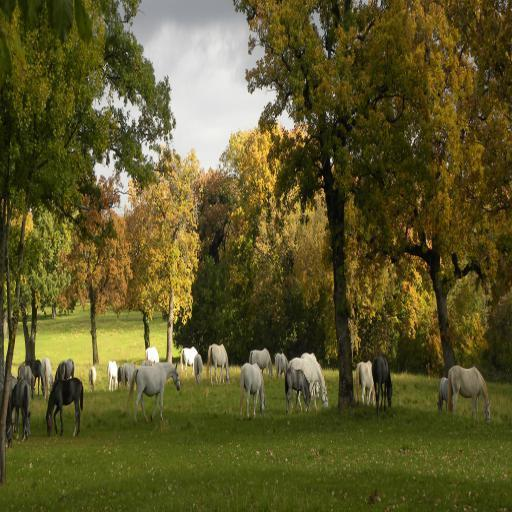horse: (6, 353, 84, 450), (238, 348, 330, 422), (107, 346, 181, 421), (448, 367, 493, 427), (370, 357, 394, 408), (206, 342, 232, 382), (354, 363, 374, 407), (182, 344, 200, 378), (438, 377, 454, 413), (193, 352, 202, 382), (88, 366, 96, 390)
